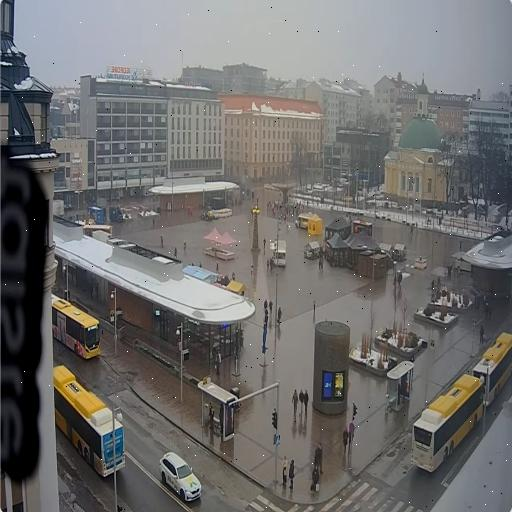Bus: (54, 365, 125, 477), (412, 375, 484, 471), (52, 294, 100, 359), (473, 332, 512, 406)
